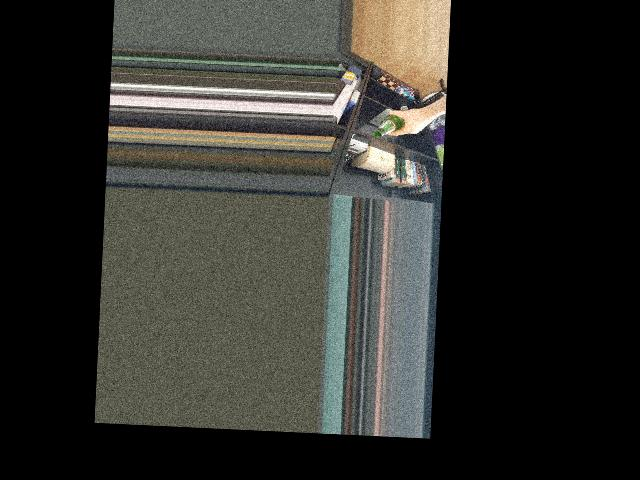beer: (372, 108, 408, 138)
